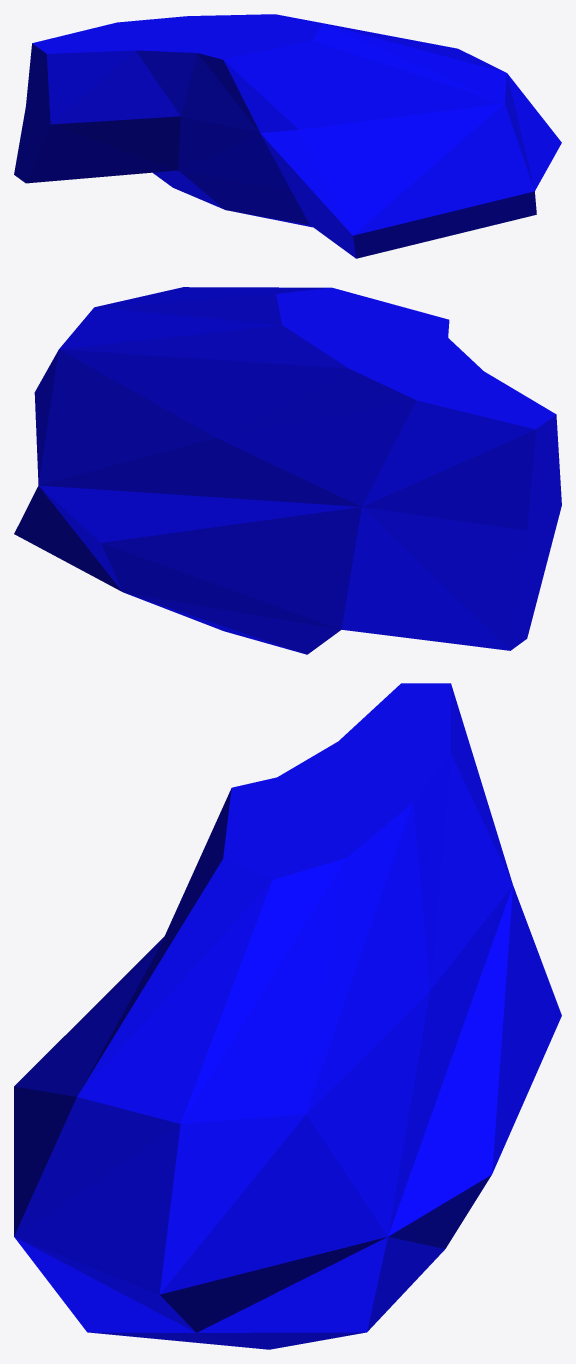
File: LCollar_mesh.dae
3 views of the same model, one above another, from view 1: azimuth 30°, elevation 25°; view 2: azimuth 150°, elevation 25°; view 3: azimuth 270°, elevation 25° (orthographic). The views are drawn at different scales.
Parts seen in each view (by area): view 1: LCollar; view 2: LCollar; view 3: LCollar.
Part boxes in pixels (<box>): LCollar: <box>14,14,561,258</box>; LCollar: <box>14,287,561,654</box>; LCollar: <box>14,683,561,1349</box>.
Bounding box in the file's own units: 0.2024 × 0.0956 × 0.1279.
